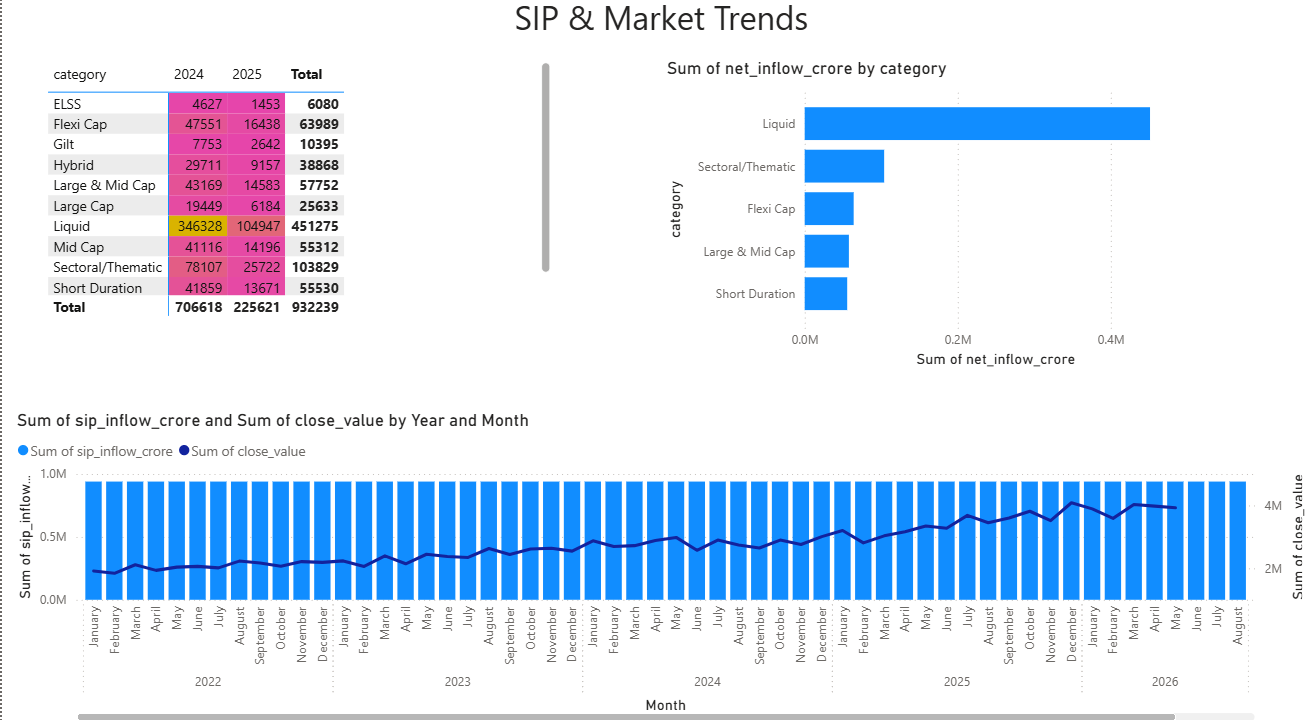

The dashboard page shown, as its layout file describes it:
{"tool":"powerbi","page":{"name":"SIP & Market Trends","canvas":[1280,720],"ordinal":3},"visuals":[{"type":"textbox","box":[9.8,0,1270.5,66],"z":0},{"type":"lineClusteredColumnComboChart","fields":{"Y":["Sum(04_monthly_sip_inflows_cleaned.sip_inflow_crore)"],"Y2":["Sum(10_benchmark_indices_cleaned.close_value)"],"Category":["10_benchmark_indices_cleaned.date.Variation.Date Hierarchy.Year","10_benchmark_indices_cleaned.date.Variation.Date Hierarchy.Month"]},"box":[65.6,410.5,1090.4,309.3],"z":1000},{"type":"pivotTable","fields":{"Rows":["05_category_inflows_cleaned.category"],"Values":["Sum(05_category_inflows_cleaned.net_inflow_crore)"],"Columns":["05_category_inflows_cleaned.month.Variation.Date Hierarchy.Year"]},"box":[40.4,66,501.4,258],"z":2000},{"type":"clusteredBarChart","fields":{"Category":["05_category_inflows_cleaned.category"],"Y":["Sum(05_category_inflows_cleaned.net_inflow_crore)"]},"box":[645.7,65.6,533.1,307.9],"z":3000}]}

Visuals, with their boxes in screenshot pixels (x1, y1, x2, y2), scaled from the page's 1280x720 canvas onto the 1307x722 screenshot:
textbox: (left=10, top=0, right=1306, bottom=66)
lineClusteredColumnComboChart - Sum(04_monthly_sip_inflows_cleaned.sip_inflow_crore) x Sum(10_benchmark_indices_cleaned.close_value): (left=67, top=412, right=1180, bottom=721)
pivotTable - 05_category_inflows_cleaned.category x Sum(05_category_inflows_cleaned.net_inflow_crore): (left=41, top=66, right=553, bottom=325)
clusteredBarChart - 05_category_inflows_cleaned.category x Sum(05_category_inflows_cleaned.net_inflow_crore): (left=659, top=66, right=1204, bottom=375)
